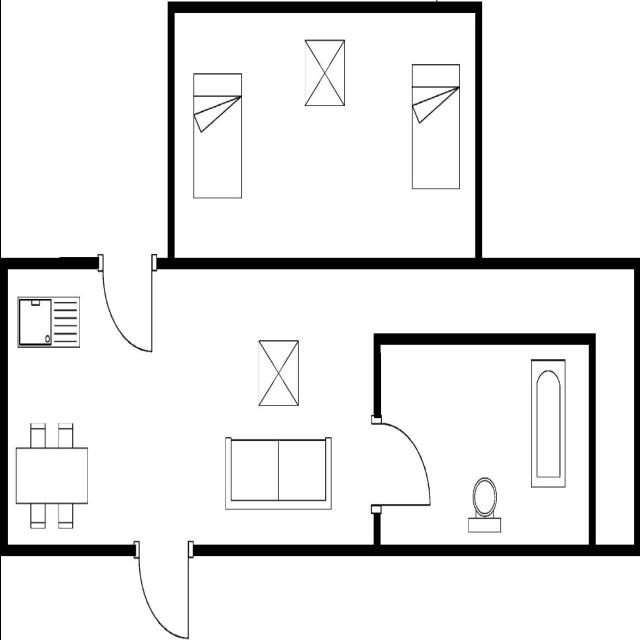bed: (190, 66, 246, 206), (406, 60, 463, 194)
coffee_table: (253, 332, 303, 410), (300, 34, 348, 114)
dining_table: (13, 412, 91, 534)
large_sink: (462, 468, 504, 538)
large_sofa: (218, 426, 334, 514)
sink: (13, 288, 83, 360)
tub: (528, 354, 570, 492)
